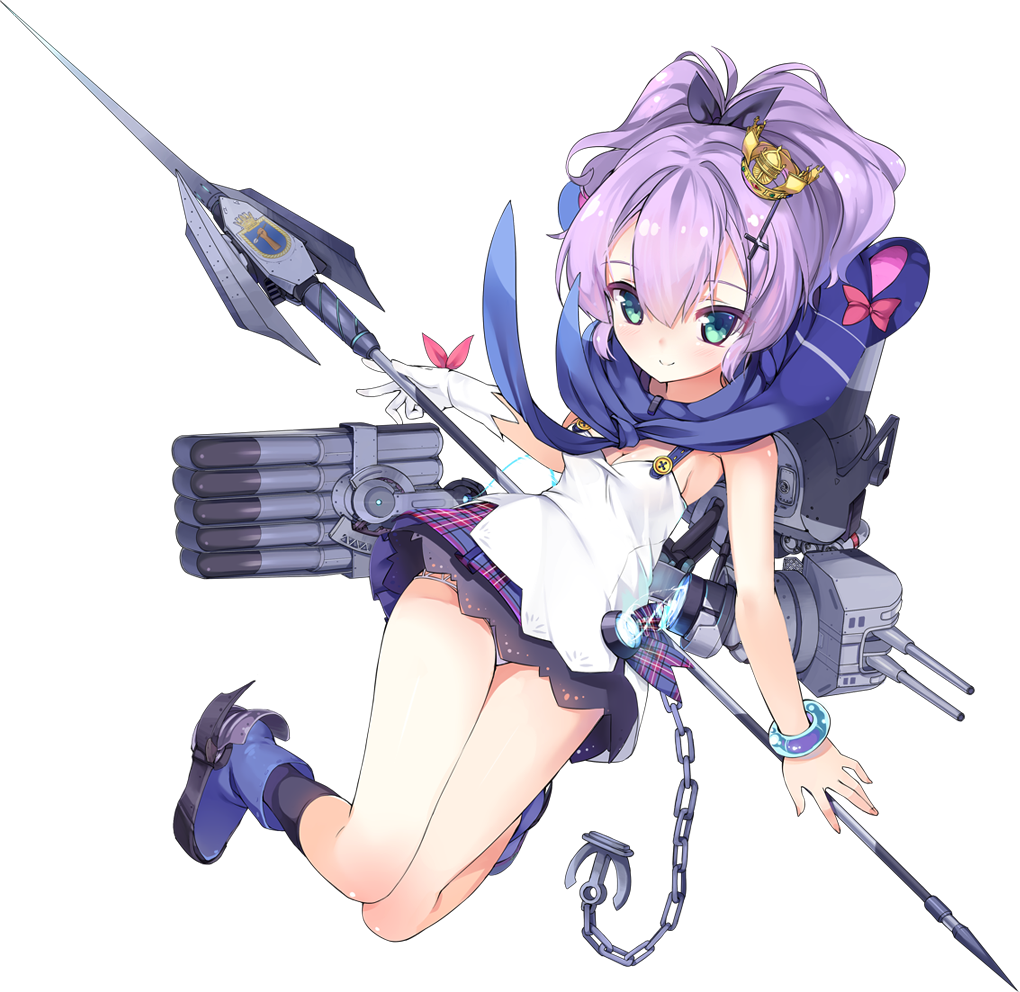person: (205, 49, 811, 992)
